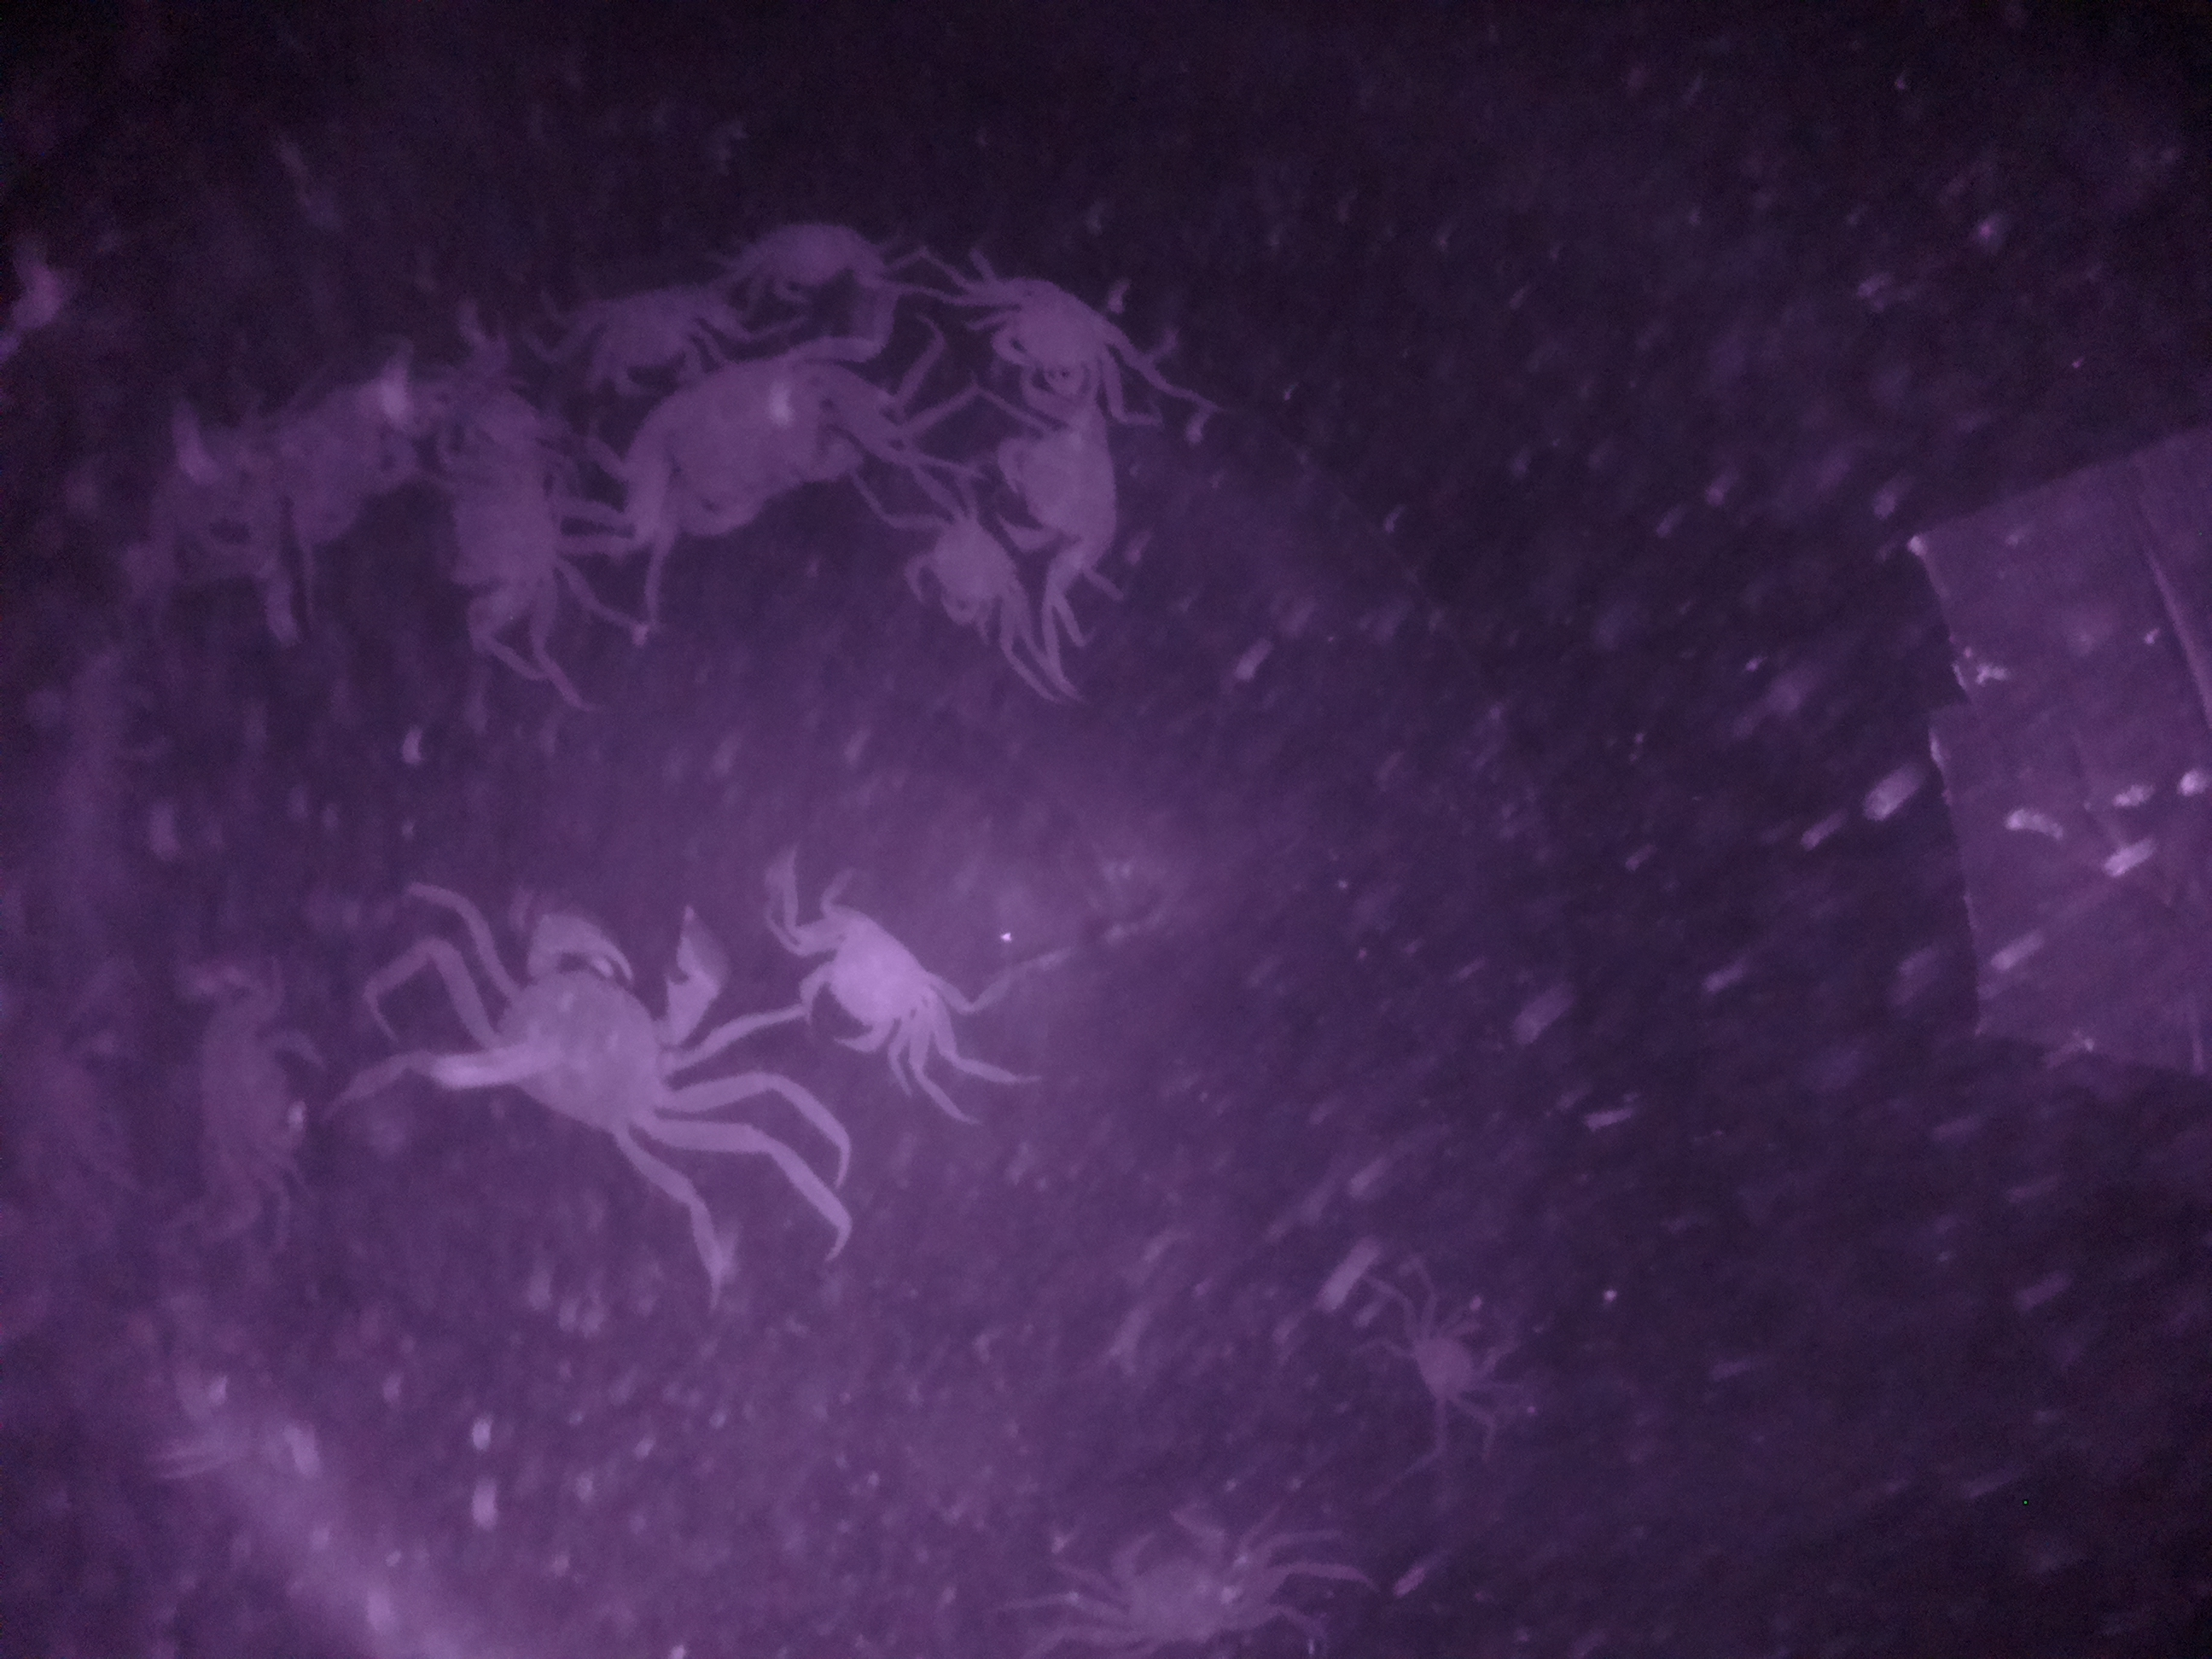Crab: (470, 885, 742, 1192), (627, 347, 862, 570), (787, 863, 982, 1086), (965, 249, 1183, 418), (907, 495, 1042, 666), (1000, 404, 1137, 558)
